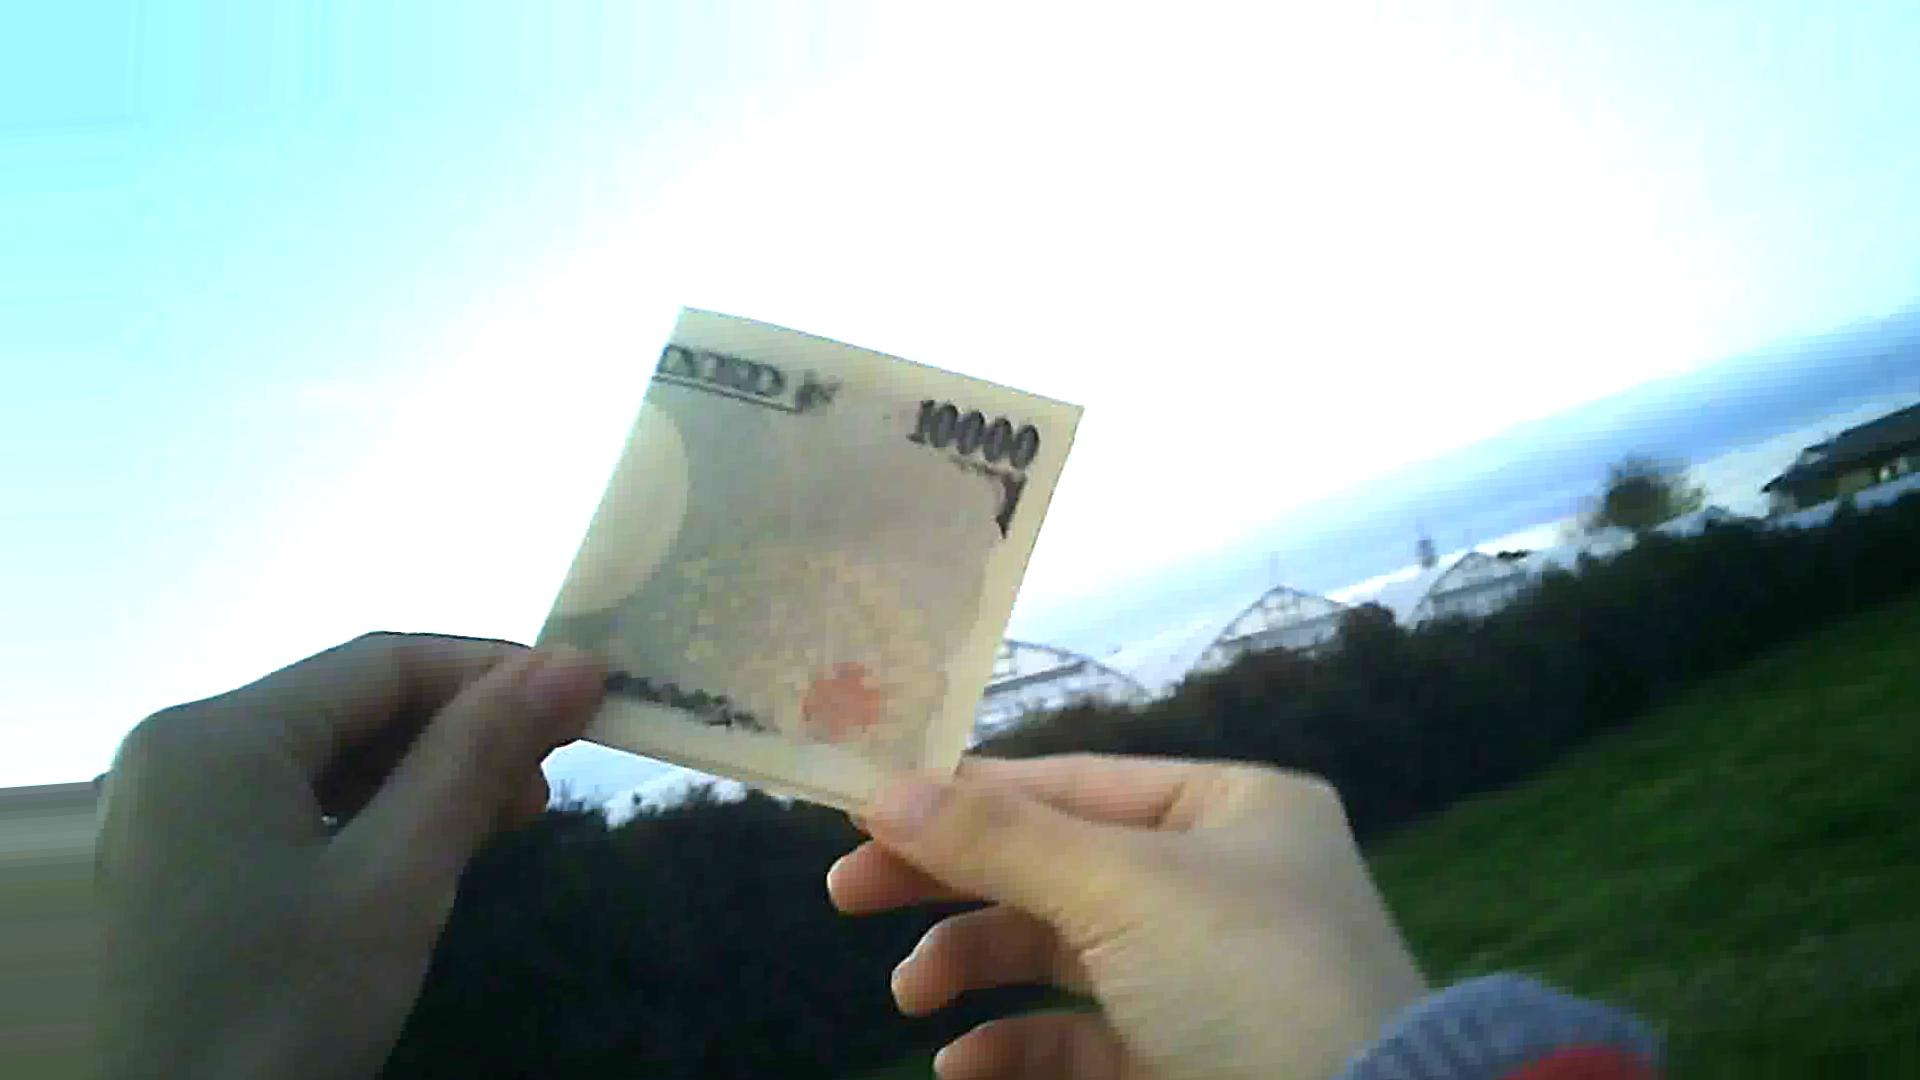10,000 Yen: (531, 280, 1075, 820)
